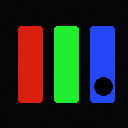2 circle: (94, 77, 112, 95)
